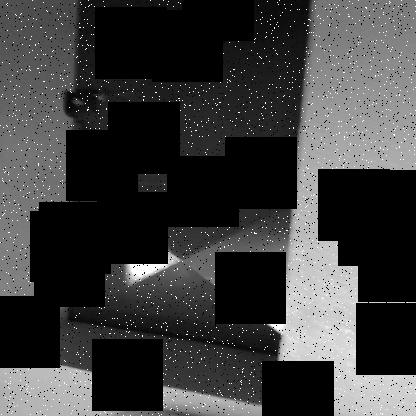Porte: (64, 1, 311, 365)
